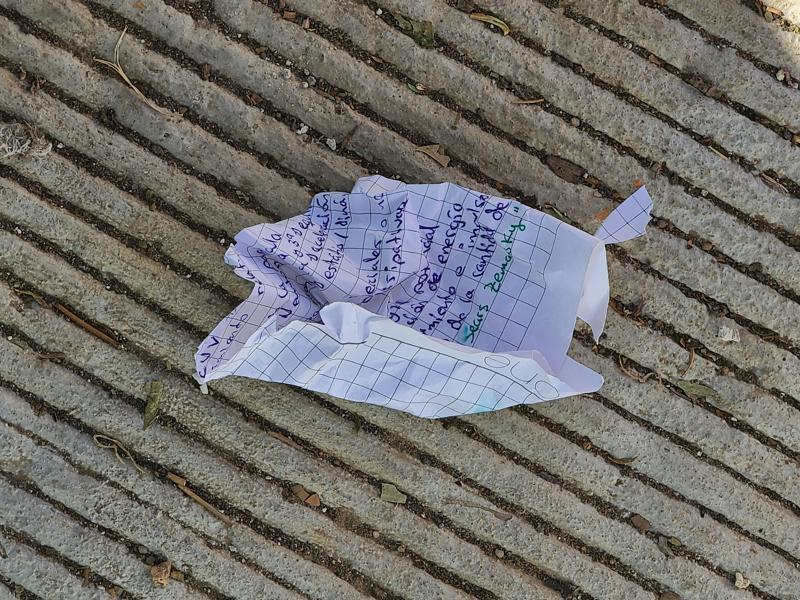papel: (193, 176, 655, 422)
